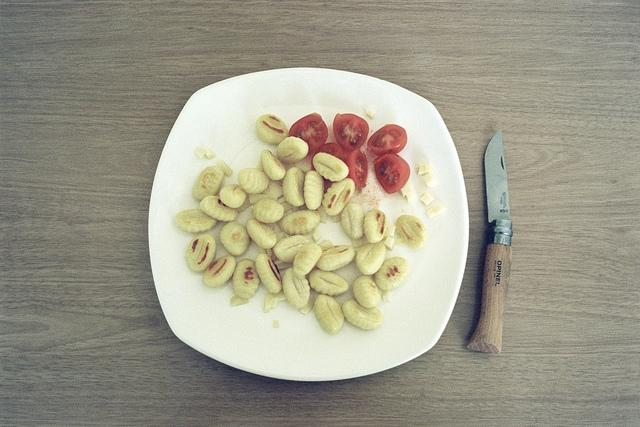tomato: (288, 112, 328, 152), (372, 153, 411, 194), (333, 113, 369, 151), (367, 124, 408, 156), (310, 142, 346, 170), (346, 148, 368, 188)
